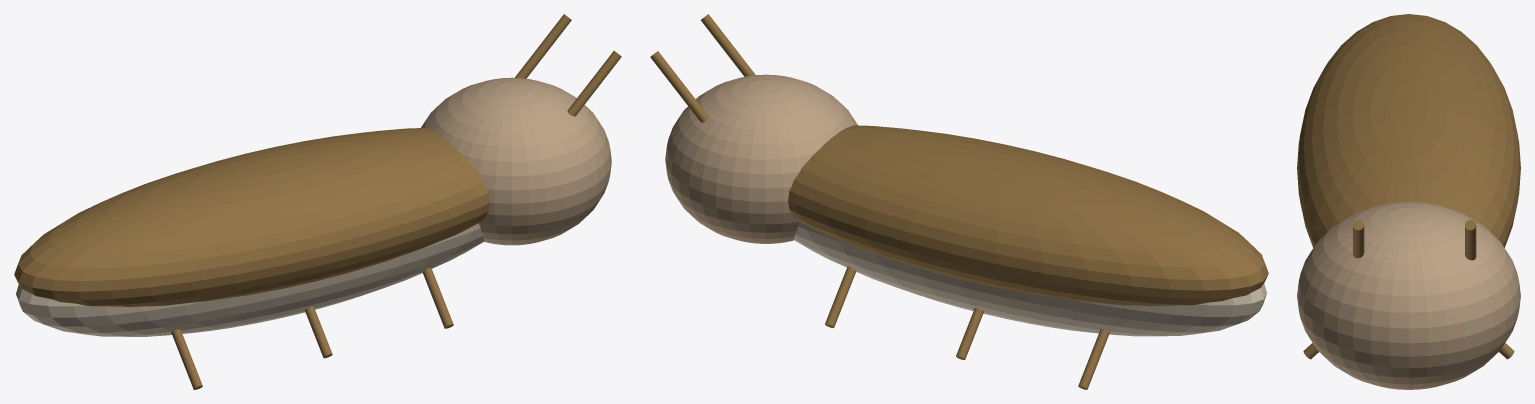
The model's file is cockroach.glb.
The picture shows the model from 3 angles, left to right: view 1: azimuth 30°, elevation 25°; view 2: azimuth 150°, elevation 25°; view 3: azimuth 270°, elevation 25°; orthographic projection. The views are drawn at different scales.
Visible parts, largest first — view 1: Mesh_Mesh_head_geo.001_lambert2SG.001; view 2: Mesh_Mesh_head_geo.001_lambert2SG.001; view 3: Mesh_Mesh_head_geo.001_lambert2SG.001.
Part boxes in pixels (<box>): Mesh_Mesh_head_geo.001_lambert2SG.001: <box>14,14,621,389</box>; Mesh_Mesh_head_geo.001_lambert2SG.001: <box>650,14,1268,389</box>; Mesh_Mesh_head_geo.001_lambert2SG.001: <box>1297,14,1520,389</box>.
Size of the model in its own units: 67 by 23.85 by 20.
